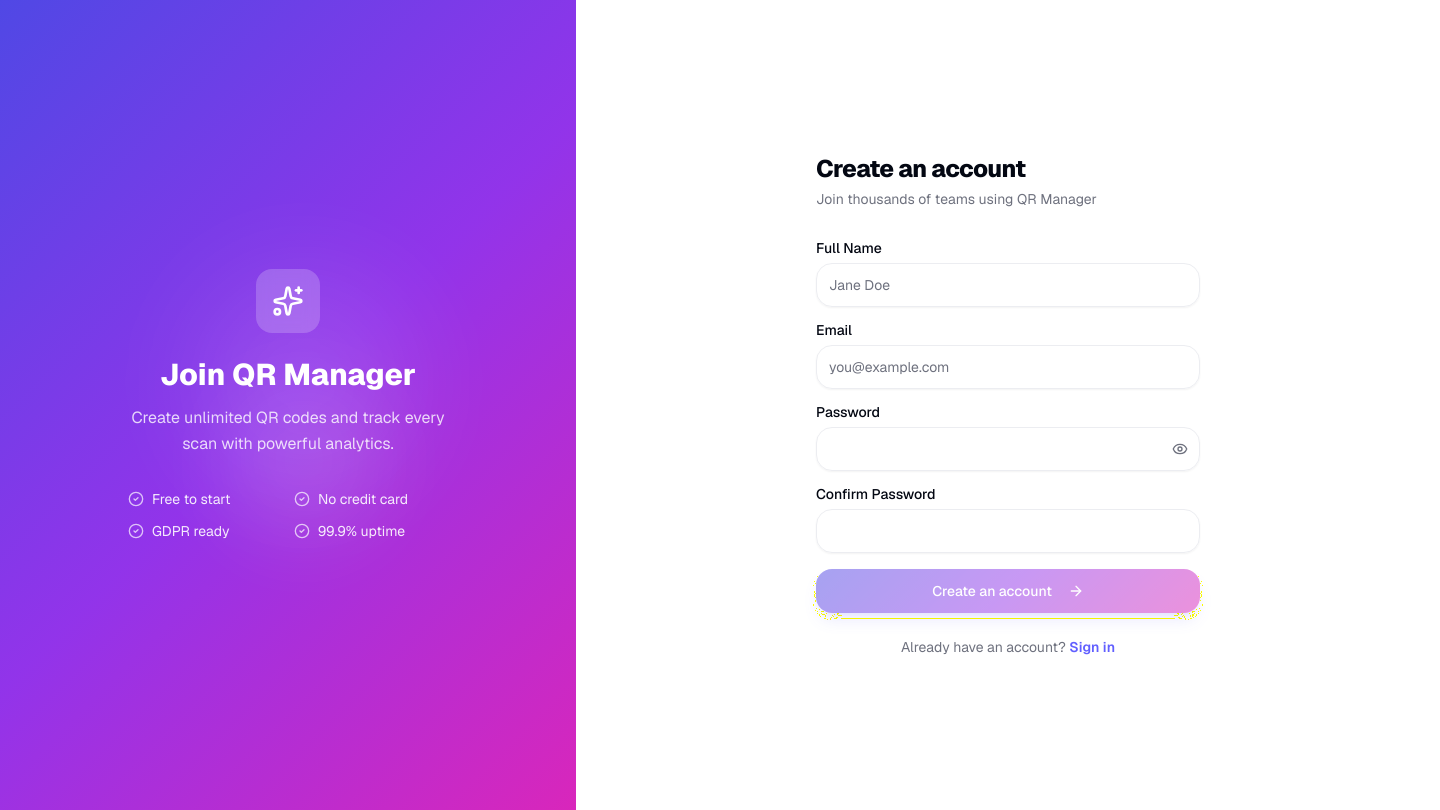
Test: Sign-up page › shows password strength checklist when user starts typing a password
In the password field labelled "Password": (1008, 449) [816,427,1200,471], type "abc"
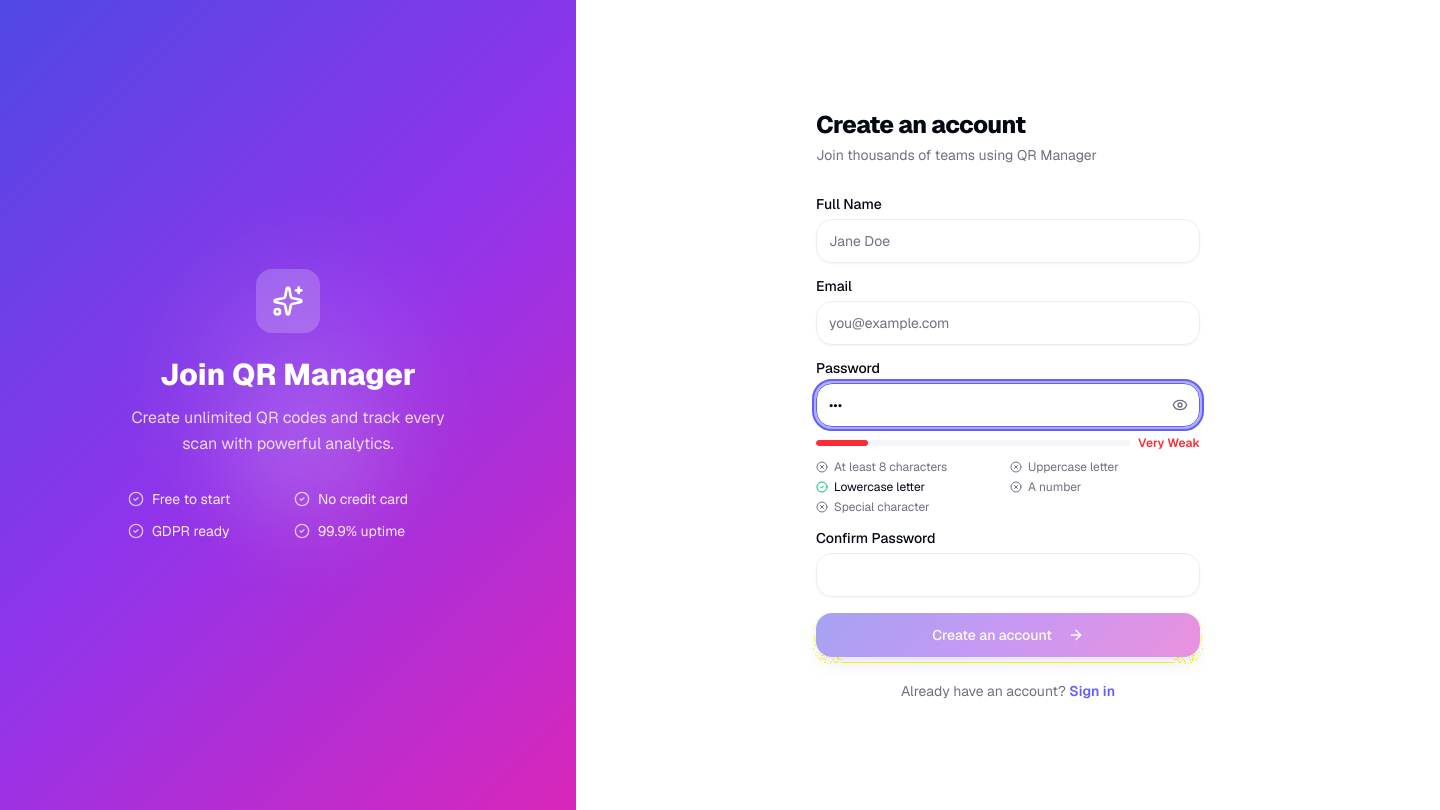
Expected: the text "Very Weak" is shown, [1138,435,1200,451]
